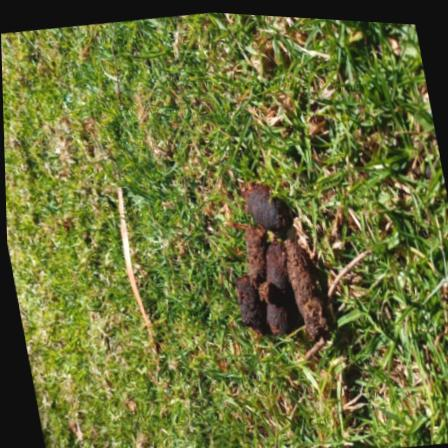dog-poop: (201, 162, 350, 361)
